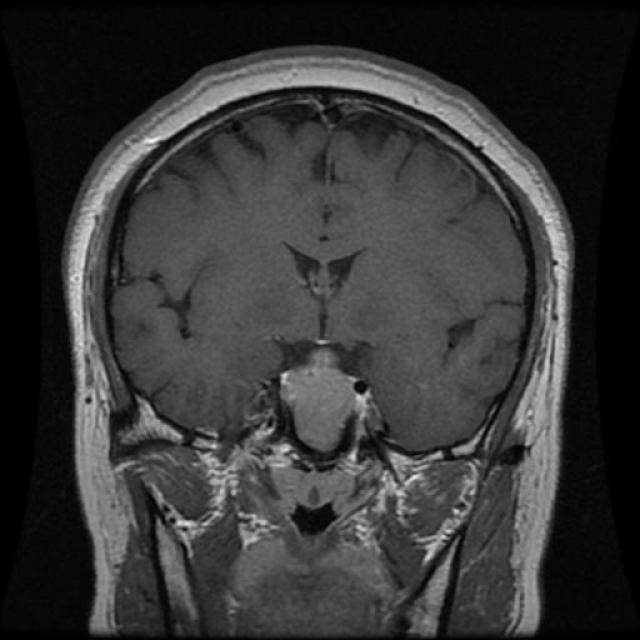pituitary: (274, 338, 365, 459)
